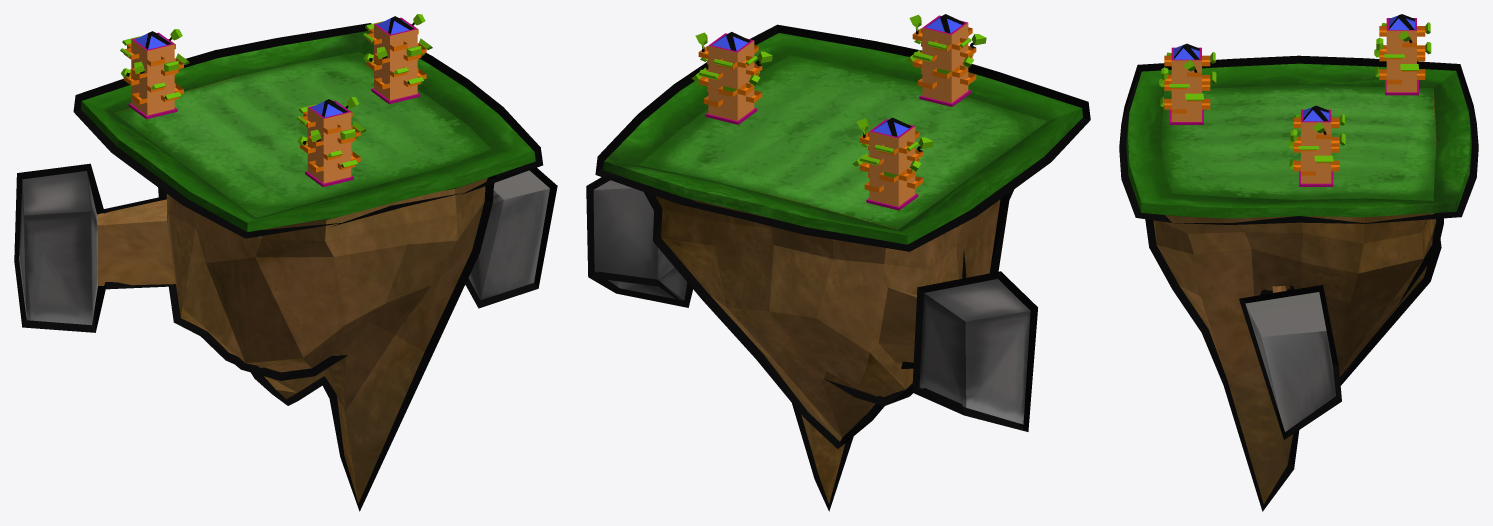
Rendered from terain with solarpunk buildings.fbx.
The picture shows the model from 3 angles, left to right: view 1: azimuth 30°, elevation 25°; view 2: azimuth 150°, elevation 25°; view 3: azimuth 270°, elevation 25°; orthographic projection. The views are drawn at different scales.
Parts seen in each view (by area): view 1: Plane.001, Plane.004, Plane.002, Plane.003; view 2: Plane.001, Plane.003, Plane.002, Plane.004; view 3: Plane.001, Plane.002, Plane.004, Plane.003.
Boxes of the visible parts, <box> form: Plane.001: <box>14,23,557,511</box>; Plane.004: <box>296,97,366,187</box>; Plane.002: <box>363,14,432,104</box>; Plane.003: <box>120,29,189,119</box>; Plane.001: <box>586,24,1090,511</box>; Plane.003: <box>852,117,933,210</box>; Plane.002: <box>691,32,772,124</box>; Plane.004: <box>905,14,986,106</box>; Plane.001: <box>1119,55,1478,511</box>; Plane.002: <box>1288,105,1345,186</box>; Plane.004: <box>1159,43,1216,124</box>; Plane.003: <box>1374,14,1431,95</box>.
Size of the model in its own units: 1322 by 1250 by 934.
3 materials, 2 textured.
